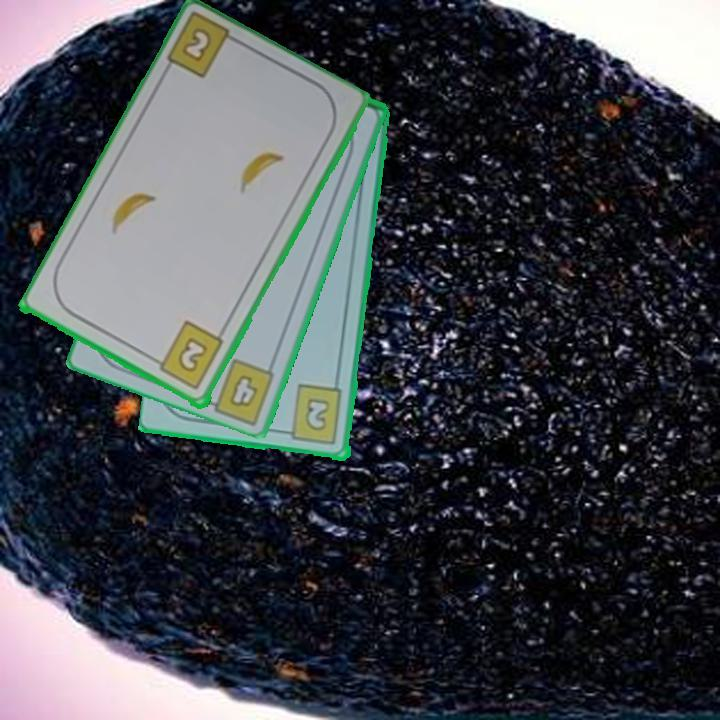2b: (148, 318, 227, 393), (279, 382, 346, 448), (178, 28, 211, 66)
4b: (226, 371, 261, 411)
